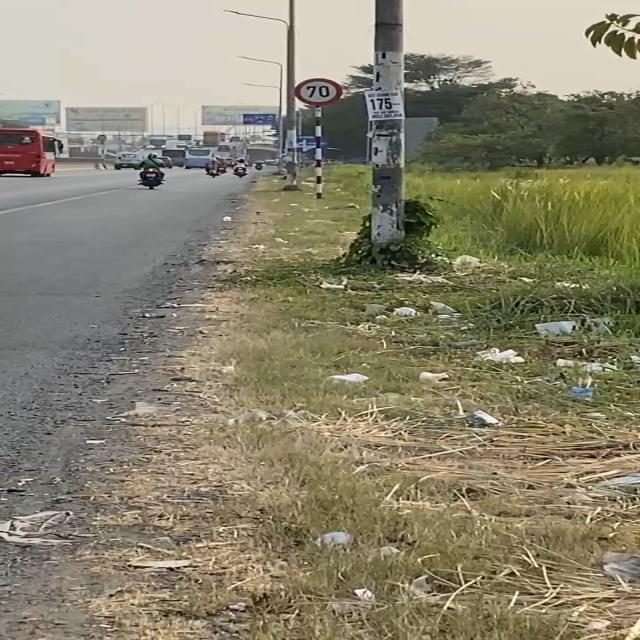127-toc-do-toi-da-70: (294, 76, 342, 105)
